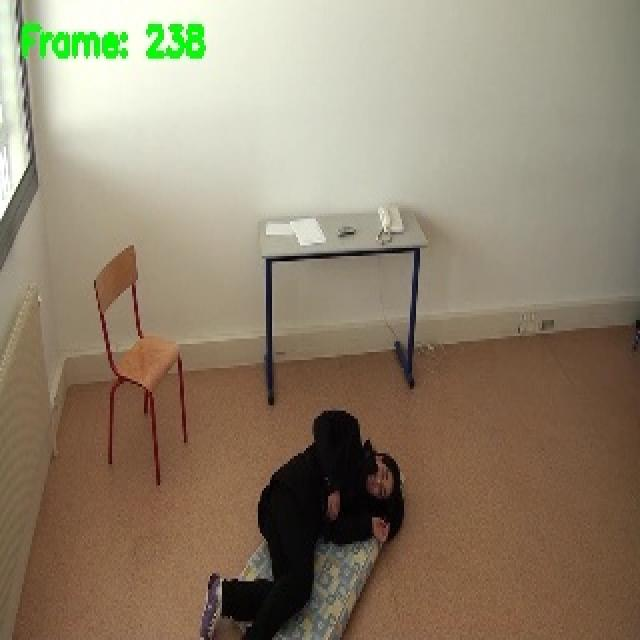Fall-Detected: (192, 406, 408, 640)
